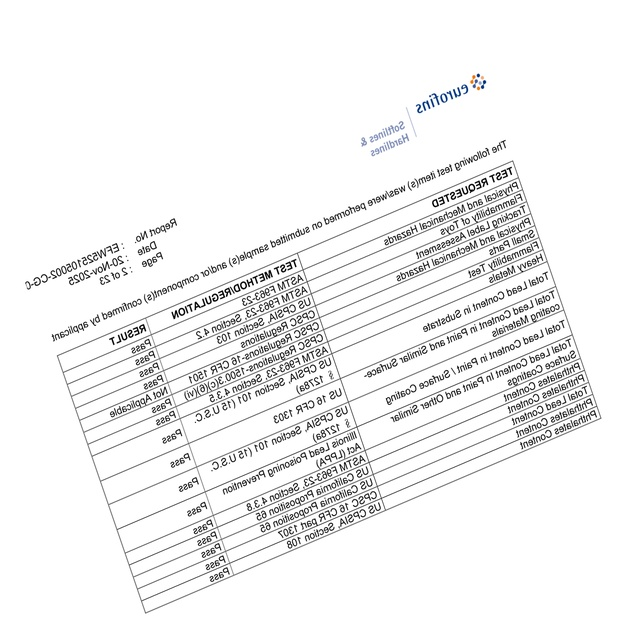eurofins: (411, 70, 491, 116)
